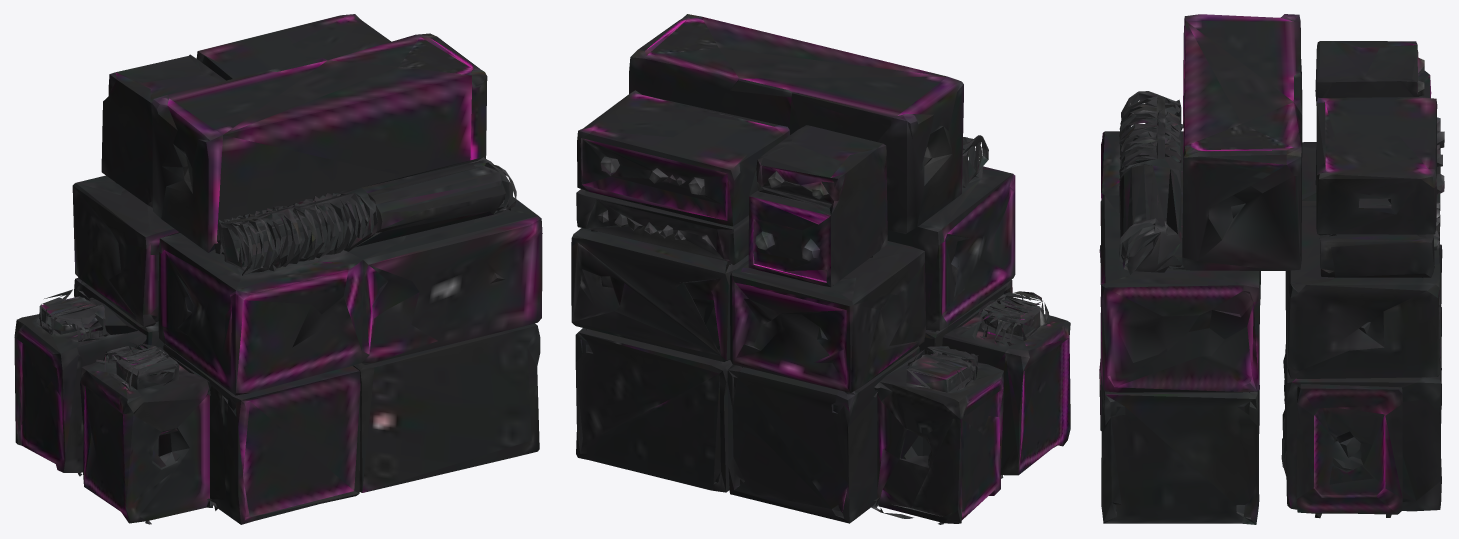
The model's file is mx_du_speaker_stack.glb.
3 views of the same model, side by side, from view 1: azimuth 30°, elevation 25°; view 2: azimuth 150°, elevation 25°; view 3: azimuth 270°, elevation 25° (orthographic). The views are drawn at different scales.
Size of the model in its own units: 1.9 by 1.68 by 1.41.
1 material, 1 textured.
